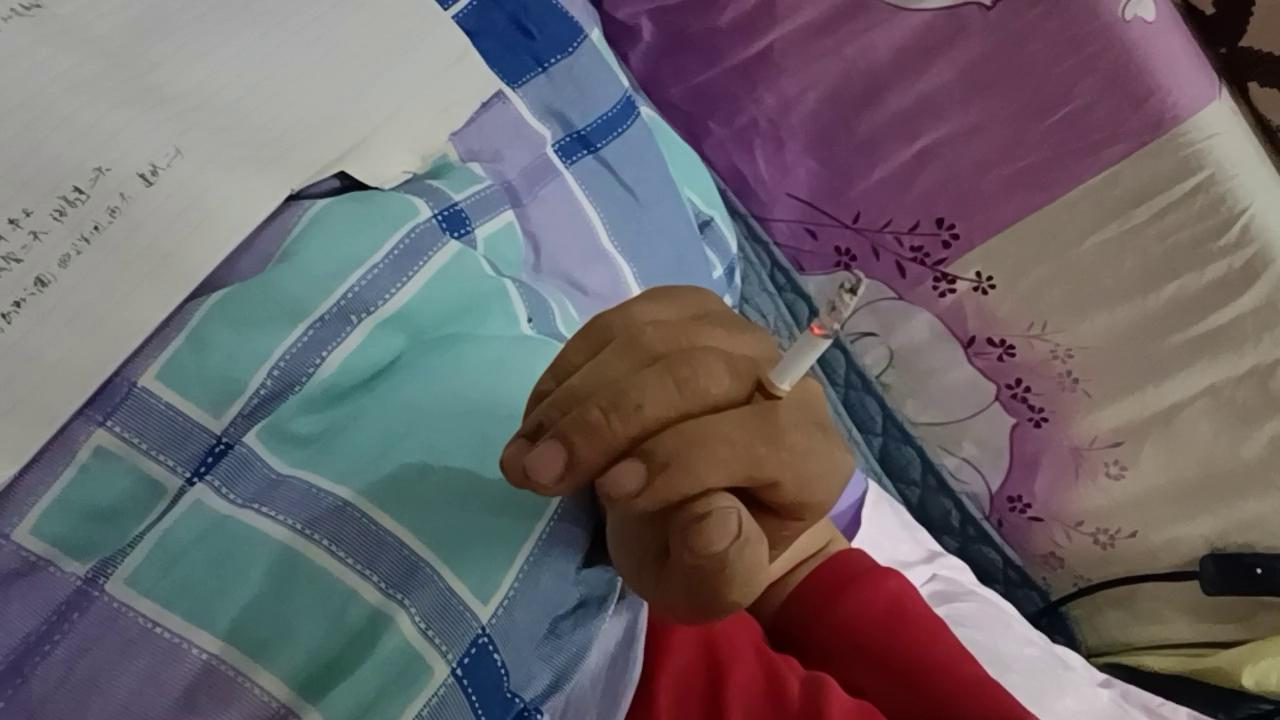smoke: (740, 268, 868, 429)
